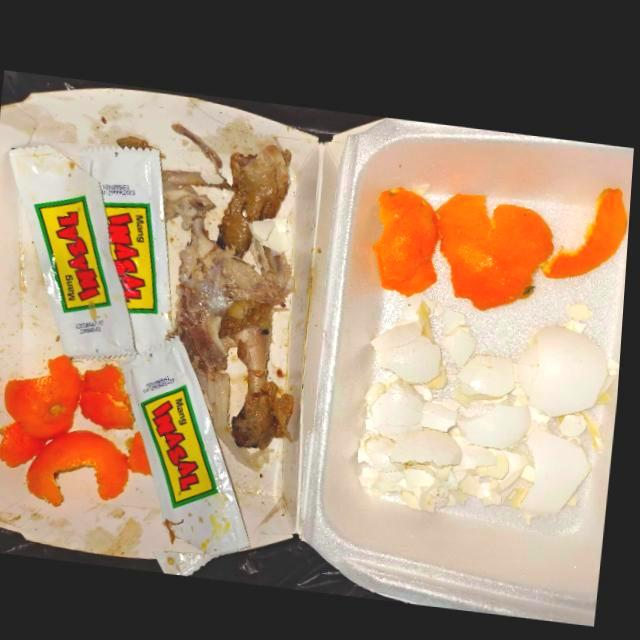left_over_food: (163, 141, 291, 280), (172, 233, 296, 369), (204, 295, 297, 469)
plastic_sachet: (127, 331, 257, 572), (10, 143, 140, 356), (82, 143, 176, 351)
